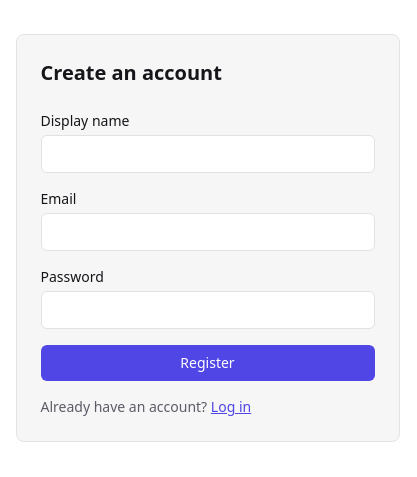
Test case: RegisterPage › shows a standalone alert (not attached to any field) when registration is open and submit fails
Type "Jamie" into the field labelled "Display name" at (208, 154), box [40,135,374,173]
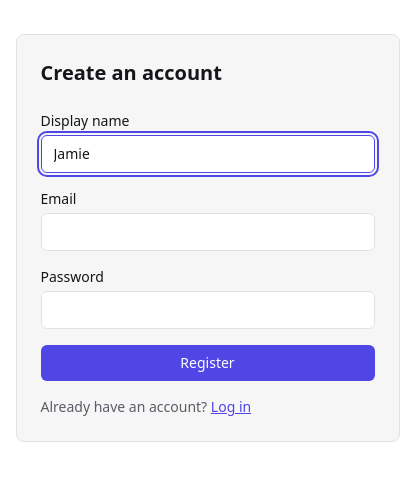
Type "jamie@example.com" into the field labelled "Email" at (208, 232), box [40,213,374,251]
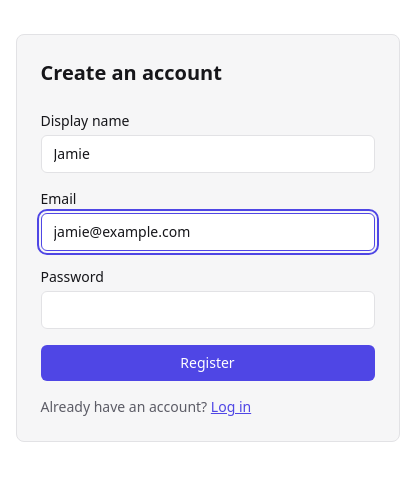
Type "correct-horse-battery-staple" into the password field labelled "Password" at (208, 310), box [40,291,374,329]
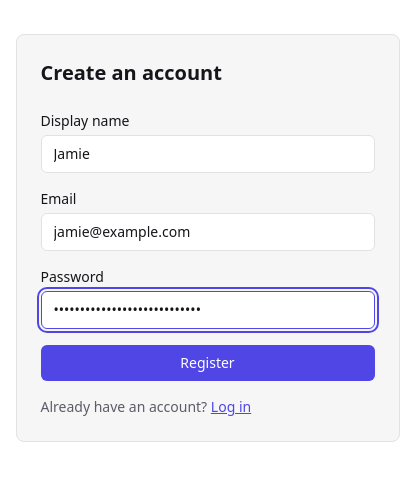
Click the button "Register" at (208, 363), box [40,345,374,381]
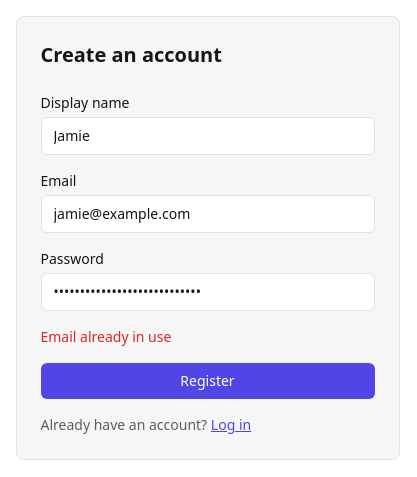
Expected: the message reads "Email already in use", [40,327,171,346]
